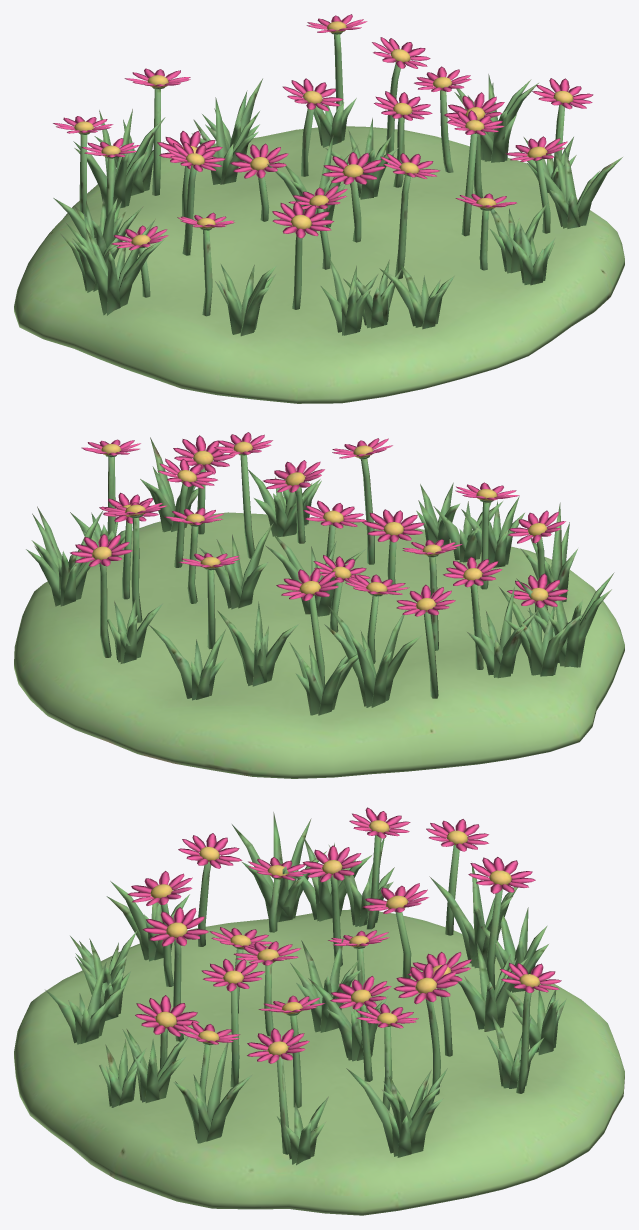
File: cosmos.glb
3 views of the same model, one above another, from view 1: azimuth 30°, elevation 25°; view 2: azimuth 150°, elevation 25°; view 3: azimuth 270°, elevation 25° (orthographic). The views are drawn at different scales.
Visible parts, largest first — view 1: cosmos; view 2: cosmos; view 3: cosmos.
Part boxes in pixels (x1=…): cosmos: x1=14, y1=14, x2=624, y2=403; cosmos: x1=14, y1=432, x2=624, y2=778; cosmos: x1=14, y1=807, x2=624, y2=1215.
Size of the model in its own units: 3.53 by 1 by 3.22.
1 material, 1 textured.
